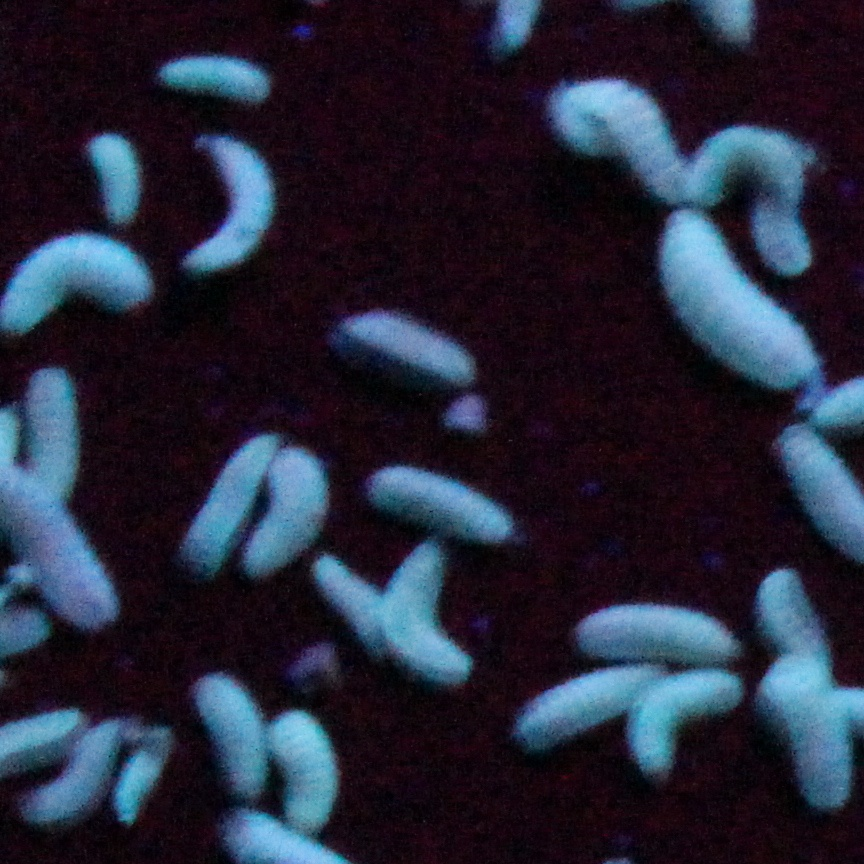larve: (634, 204, 822, 408), (539, 72, 699, 210), (1, 467, 125, 625), (5, 238, 168, 344), (749, 124, 843, 293), (374, 460, 526, 564), (191, 124, 282, 281), (627, 664, 745, 780), (378, 546, 475, 686), (188, 673, 282, 810), (571, 596, 751, 667), (174, 432, 262, 568), (338, 308, 482, 388), (68, 130, 168, 238), (12, 725, 123, 821), (505, 667, 648, 741), (307, 549, 399, 662), (151, 47, 294, 118), (22, 369, 92, 500), (113, 722, 174, 823)
